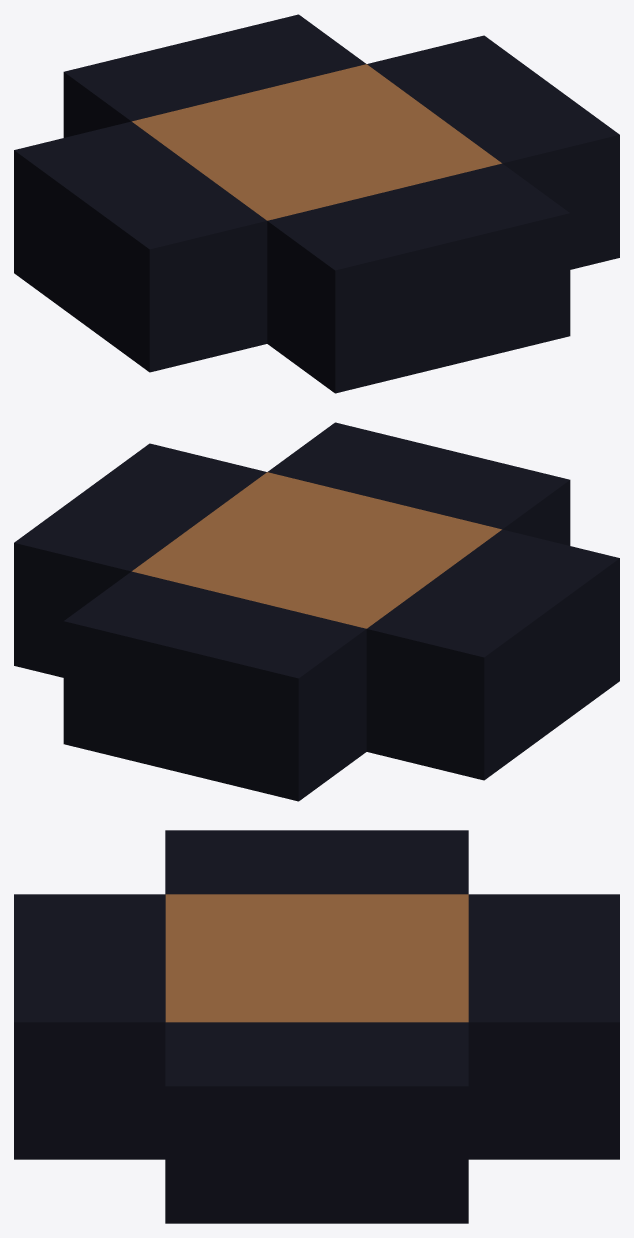
File: BombMiniWick.obj
The picture shows the model from 3 angles, top to bottom: view 1: azimuth 30°, elevation 25°; view 2: azimuth 150°, elevation 25°; view 3: azimuth 270°, elevation 25°; orthographic projection. The views are drawn at different scales.
Size of the model in its own units: 0.4 by 0.1 by 0.4.
Materials: 1 (1 with a texture image).
